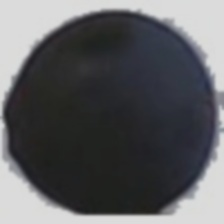grapes: (8, 7, 208, 190)
